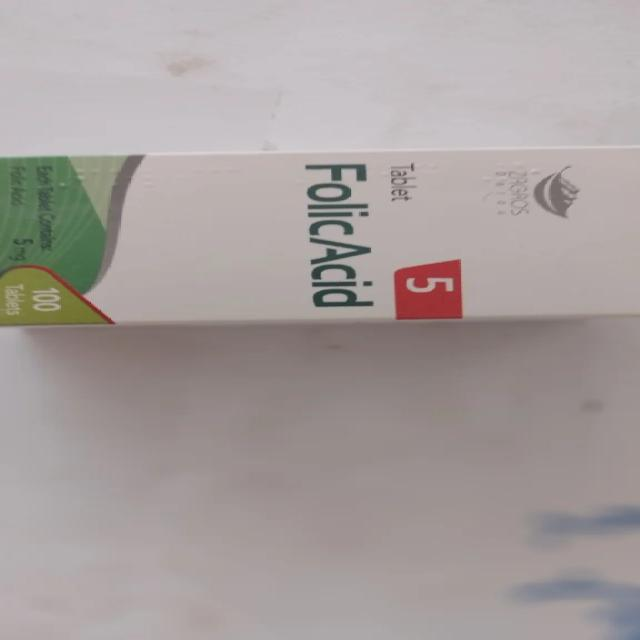drug-name: (292, 158, 383, 314)
